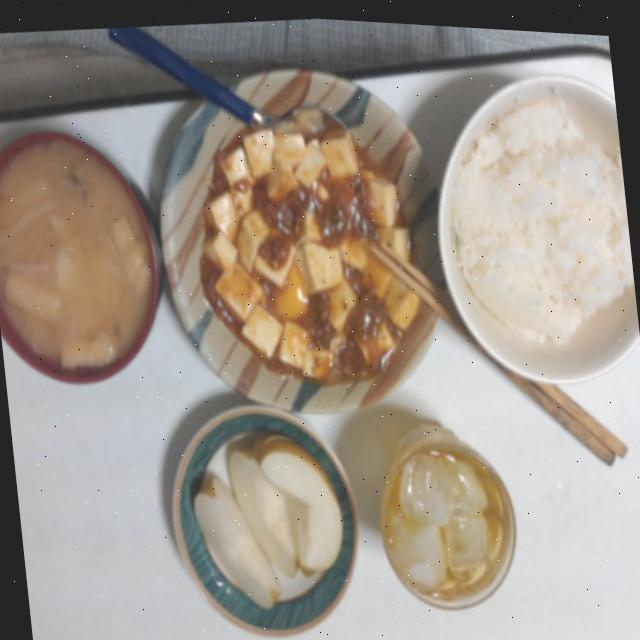汤锅炖物: (0, 110, 211, 409)
米饭主食: (438, 58, 640, 393)
豆腐料理: (103, 17, 475, 434)
